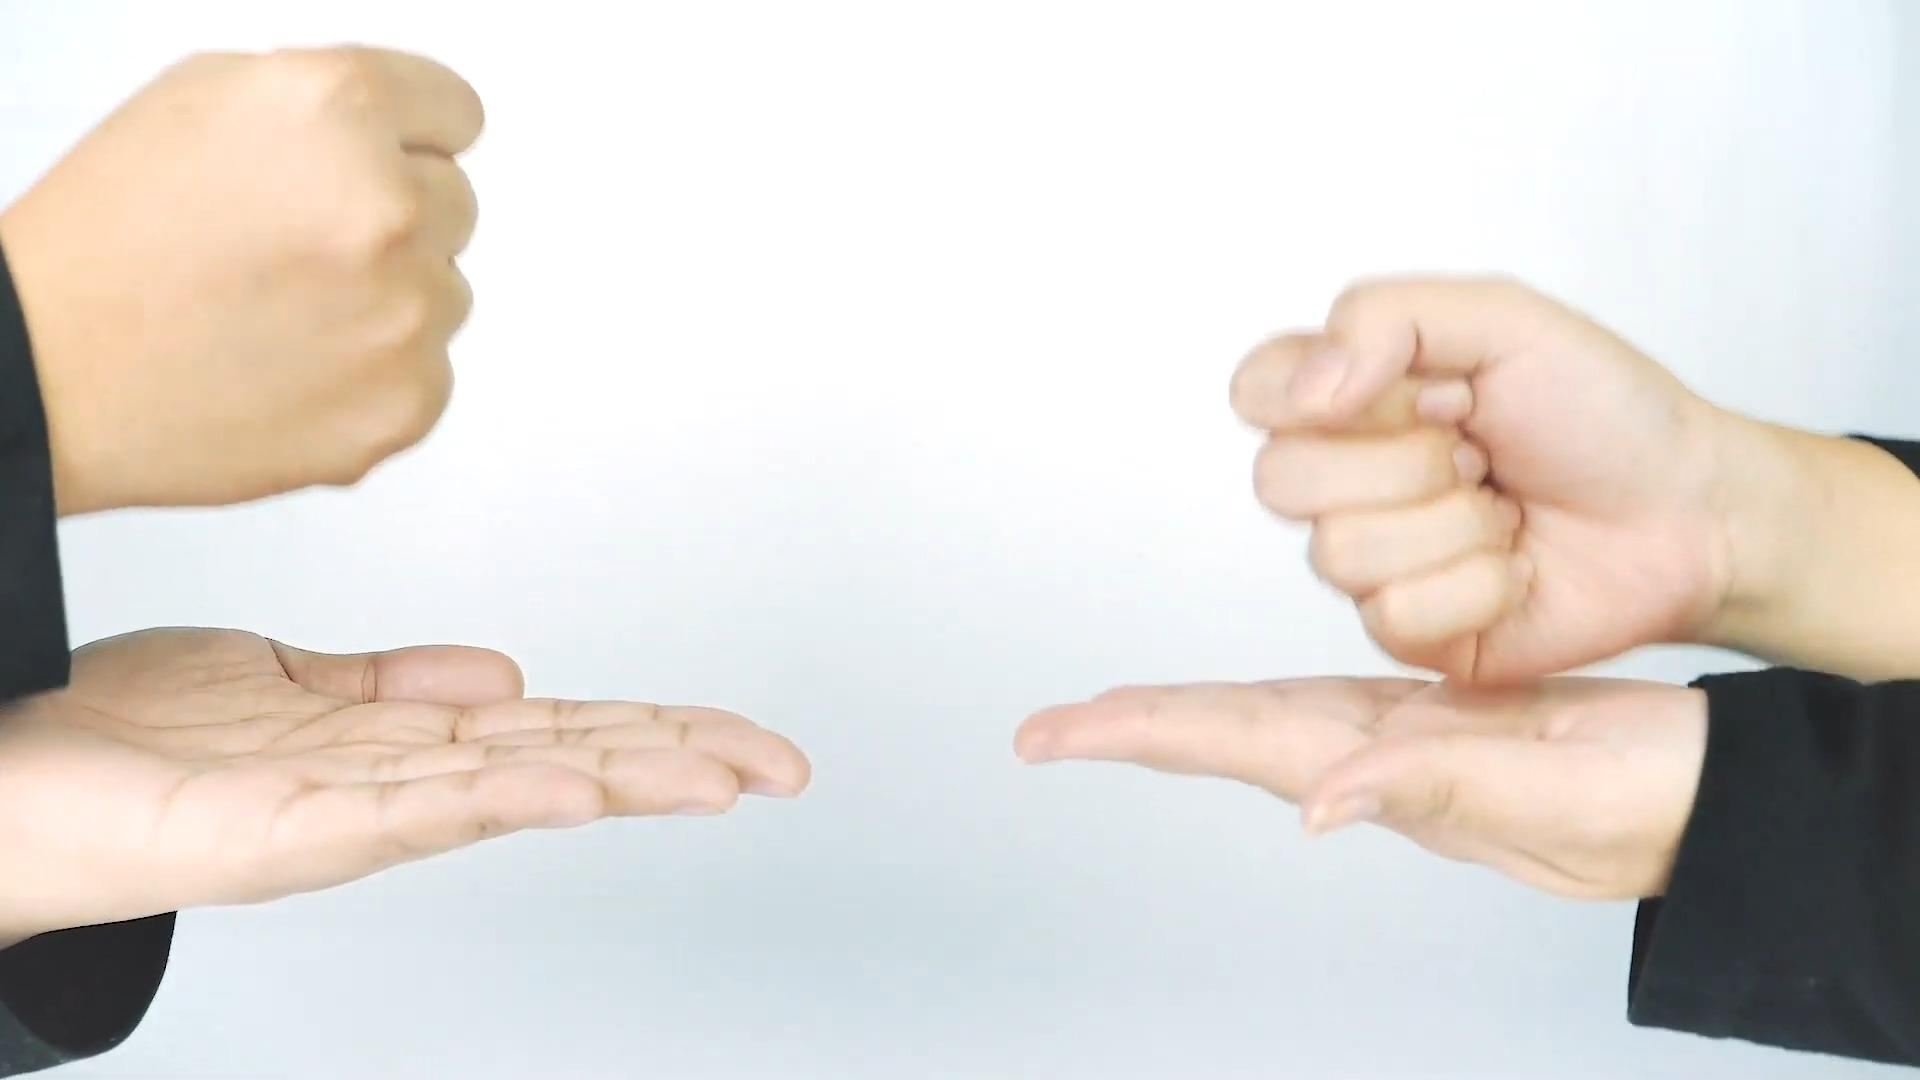Rock: (3, 37, 495, 516), (1230, 270, 1730, 695)
